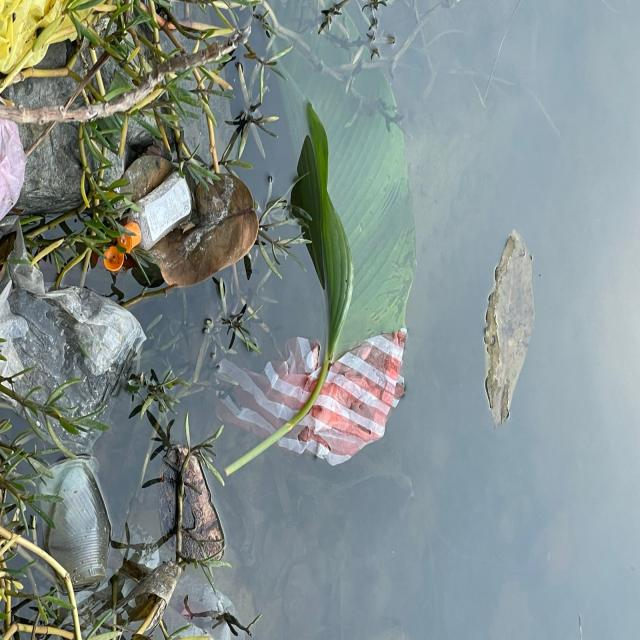Botol Plastik: (118, 170, 195, 256)
Bungkus Minuman: (34, 450, 123, 595)
Kantong Plastik: (1, 217, 149, 455), (210, 322, 411, 471)
